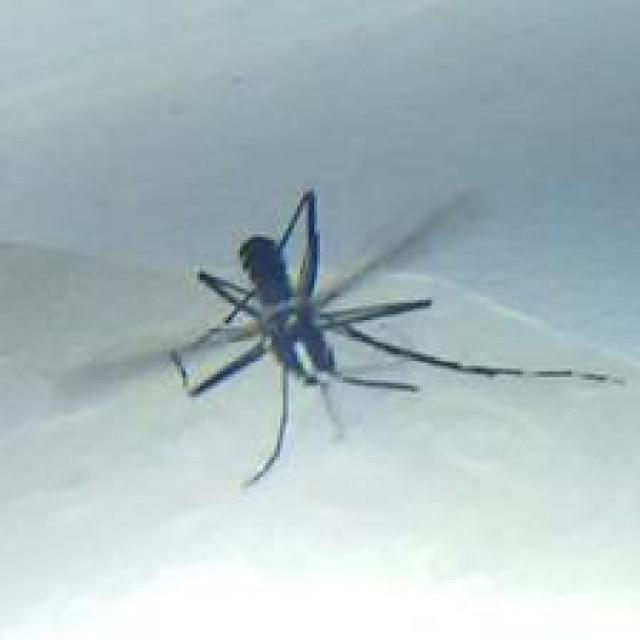Aedes albopictus: (165, 182, 626, 487)
